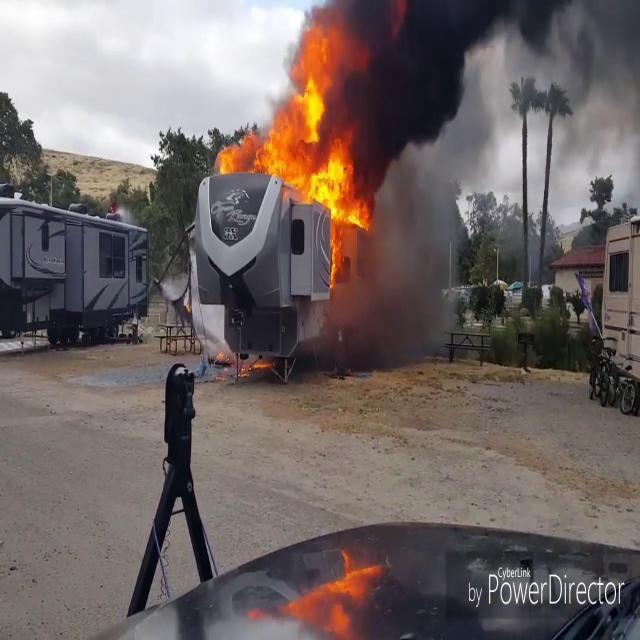Fire: (257, 18, 368, 264), (284, 546, 386, 634), (216, 122, 269, 176)
Smoke: (341, 0, 639, 188), (592, 0, 640, 212)
